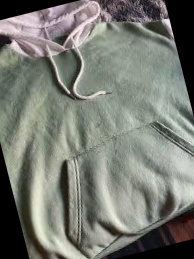oil: (98, 126, 130, 165), (89, 114, 105, 130)
